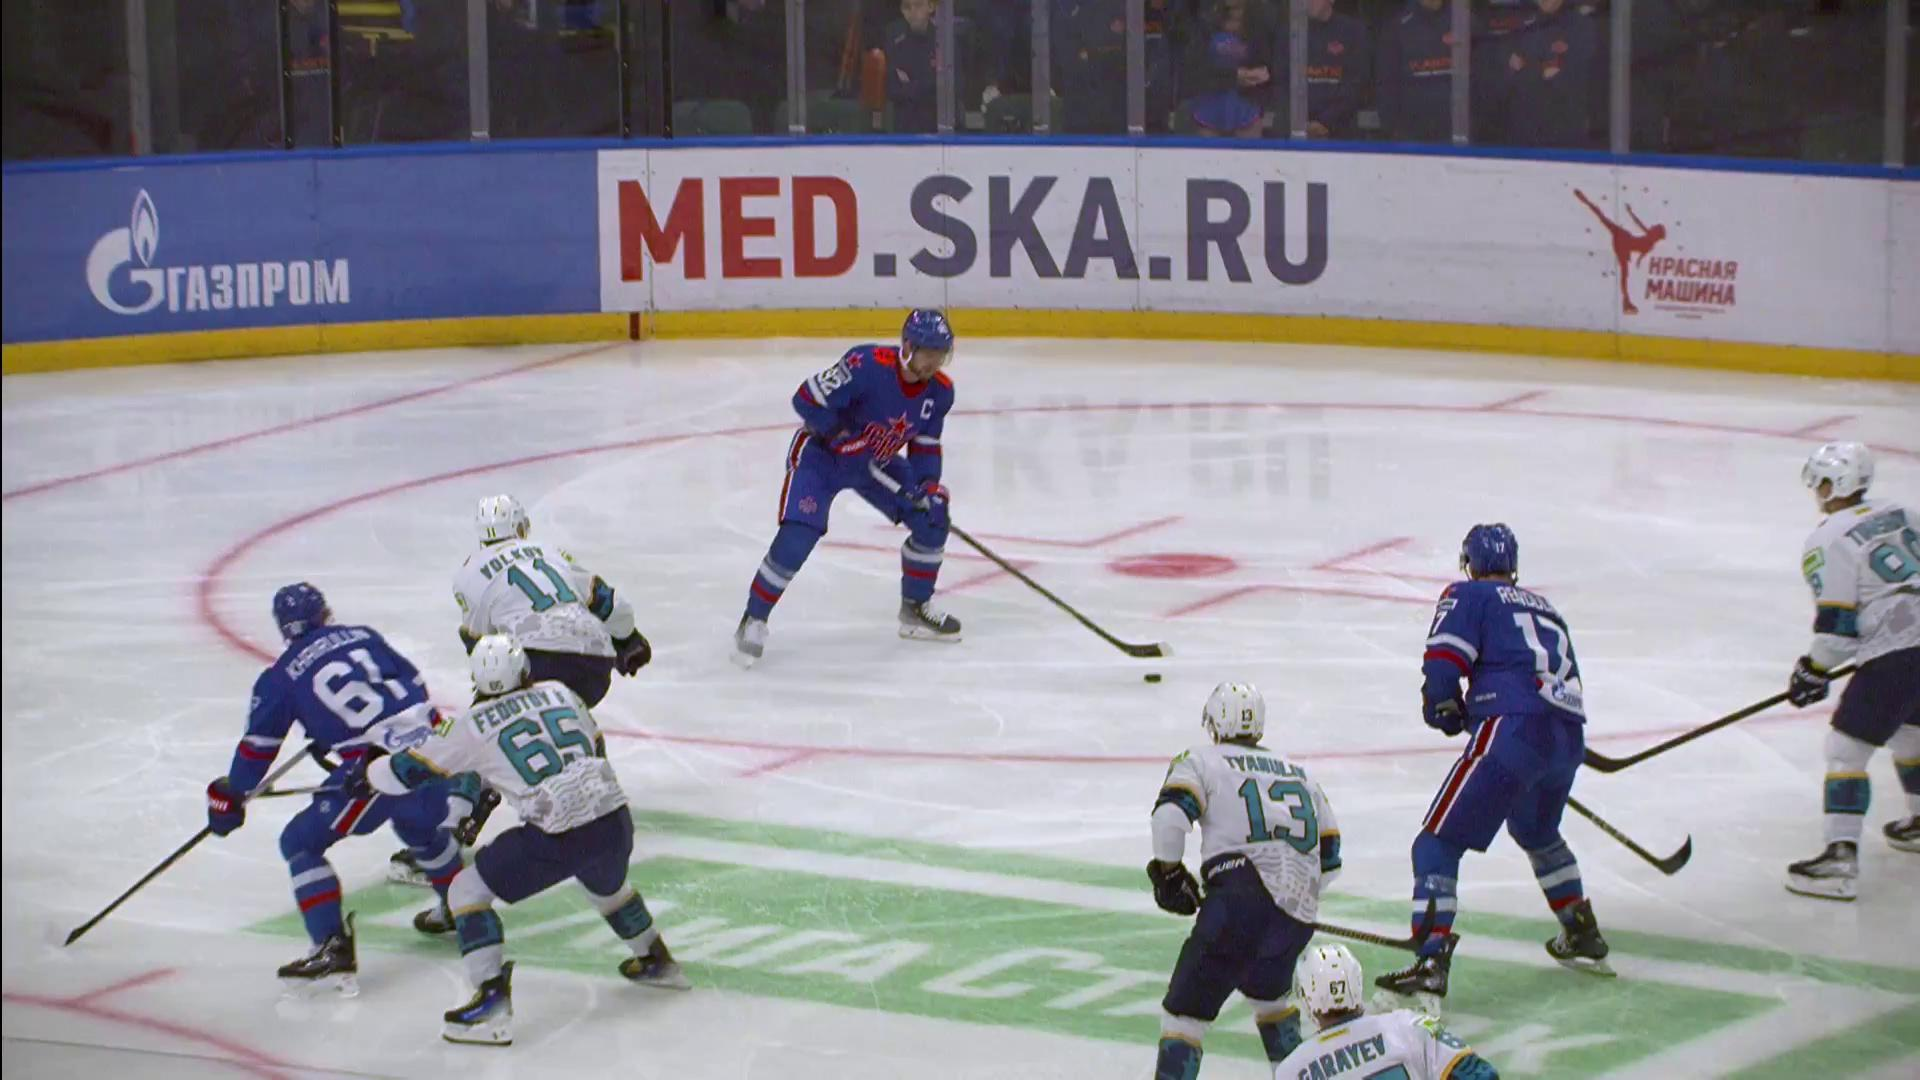ball: (1143, 673, 1162, 684)
